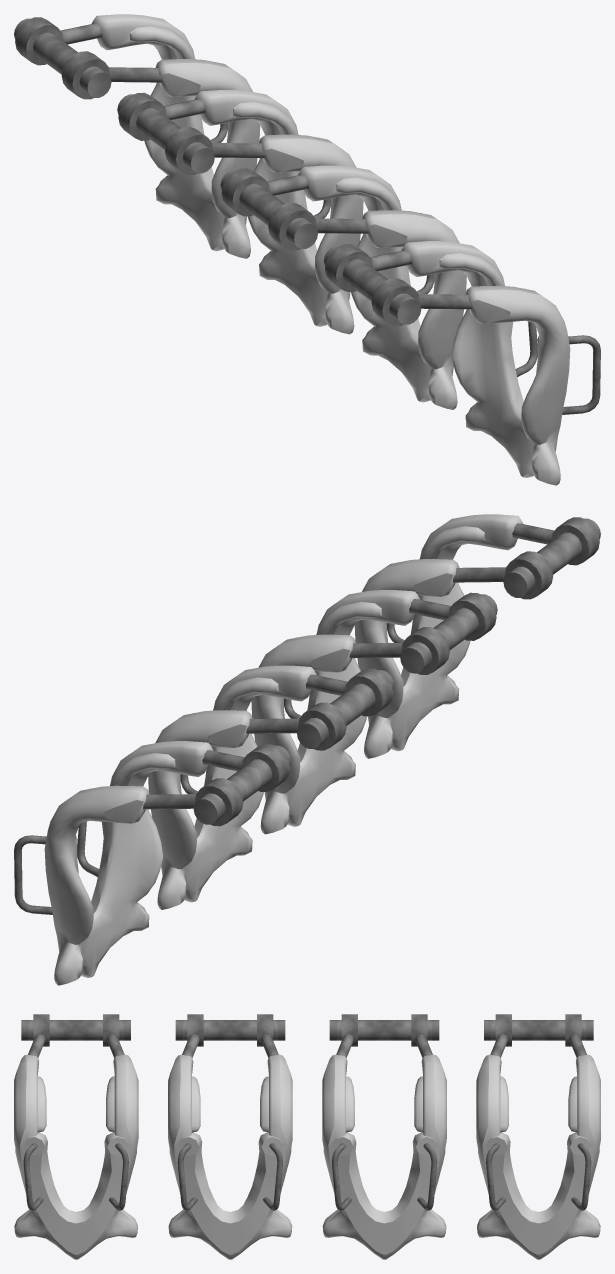
File: restraint.obj
The picture shows the model from 3 angles, top to bottom: view 1: azimuth 30°, elevation 25°; view 2: azimuth 150°, elevation 25°; view 3: azimuth 270°, elevation 25°; orthographic projection. The views are drawn at different scales.
Visible parts, largest first — view 1: Restraint; view 2: Restraint; view 3: Restraint.
Part boxes in pixels (x1=…): Restraint: x1=14, y1=14, x2=600, y2=485; Restraint: x1=14, y1=514, x2=600, y2=985; Restraint: x1=14, y1=1014, x2=600, y2=1259.
Bounding box in the file's own units: 0.6247 × 0.6928 × 1.98.
